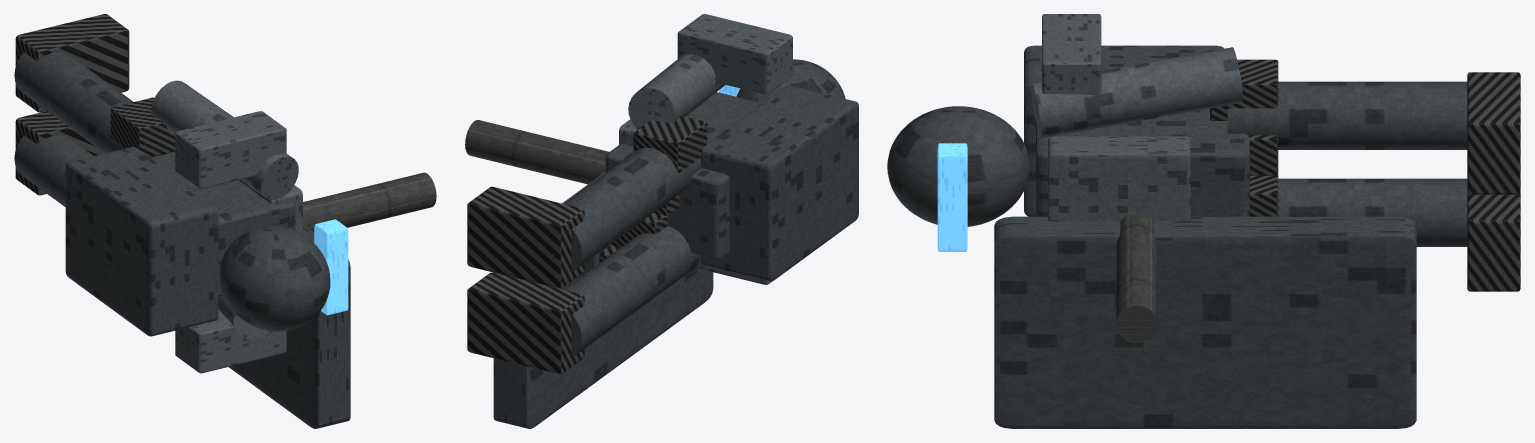
Rendered from s-u10-specter-operator-lod0.glb.
The picture shows the model from 3 angles, left to right: view 1: azimuth 30°, elevation 25°; view 2: azimuth 150°, elevation 25°; view 3: azimuth 270°, elevation 25°; orthographic projection. The views are drawn at different scales.
Parts seen in each view (by area): view 1: soldier_0_backpack, soldier_0_helmet, ballistic_shield, soldier_0_leg_1, soldier_0_shoulder_1, soldier_0_boot_1, soldier_0_rifle, soldier_0_arm_1, soldier_0_torso, soldier_0_shoulder_-1, soldier_0_leg_-1, soldier_0_pouch_3 (+4 smaller); view 2: soldier_0_backpack, ballistic_shield, soldier_0_boot_1, soldier_0_boot_-1, soldier_0_leg_-1, soldier_0_leg_1, soldier_0_torso, soldier_0_shoulder_1, soldier_0_rifle, soldier_0_arm_1, soldier_0_pouch_3, soldier_0_helmet (+2 smaller); view 3: ballistic_shield, soldier_0_leg_1, soldier_0_chest, soldier_0_helmet, soldier_0_arm_1, soldier_0_leg_-1, soldier_0_torso, soldier_0_boot_1, soldier_0_boot_-1, soldier_0_rifle, soldier_0_shoulder_1, soldier_0_backpack (+4 smaller).
Boxes of the visible parts, x1=… form: soldier_0_backpack: x1=65, y1=146, x2=218, y2=336; soldier_0_helmet: x1=219, y1=225, x2=330, y2=331; ballistic_shield: x1=229, y1=224, x2=350, y2=428; soldier_0_leg_1: x1=14, y1=52, x2=175, y2=157; soldier_0_shoulder_1: x1=175, y1=111, x2=286, y2=188; soldier_0_boot_1: x1=15, y1=14, x2=129, y2=112; soldier_0_rifle: x1=303, y1=172, x2=436, y2=232; soldier_0_arm_1: x1=151, y1=80, x2=298, y2=199; soldier_0_torso: x1=151, y1=152, x2=295, y2=296; soldier_0_shoulder_-1: x1=175, y1=310, x2=286, y2=373; soldier_0_leg_-1: x1=14, y1=135, x2=93, y2=206; soldier_0_pouch_3: x1=110, y1=97, x2=175, y2=157; soldier_0_backpack: x1=701, y1=85, x2=858, y2=281; ballistic_shield: x1=493, y1=171, x2=713, y2=428; soldier_0_boot_1: x1=467, y1=186, x2=584, y2=288; soldier_0_boot_-1: x1=467, y1=272, x2=584, y2=373; soldier_0_leg_-1: x1=564, y1=226, x2=700, y2=357; soldier_0_leg_1: x1=564, y1=147, x2=701, y2=271; soldier_0_torso: x1=605, y1=92, x2=762, y2=258; soldier_0_shoulder_1: x1=677, y1=14, x2=792, y2=94; soldier_0_rifle: x1=465, y1=120, x2=608, y2=184; soldier_0_arm_1: x1=628, y1=54, x2=725, y2=129; soldier_0_pouch_3: x1=633, y1=116, x2=707, y2=172; soldier_0_helmet: x1=736, y1=59, x2=845, y2=103; ballistic_shield: x1=994, y1=216, x2=1416, y2=428; soldier_0_leg_1: x1=1227, y1=81, x2=1467, y2=149; soldier_0_chest: x1=1048, y1=136, x2=1190, y2=221; soldier_0_helmet: x1=887, y1=106, x2=1029, y2=226; soldier_0_arm_1: x1=1031, y1=47, x2=1243, y2=138; soldier_0_leg_-1: x1=1278, y1=178, x2=1467, y2=246; soldier_0_torso: x1=1036, y1=108, x2=1249, y2=216; soldier_0_boot_1: x1=1467, y1=72, x2=1520, y2=194; soldier_0_boot_-1: x1=1467, y1=192, x2=1520, y2=291; soldier_0_rifle: x1=1116, y1=213, x2=1157, y2=343; soldier_0_shoulder_1: x1=1042, y1=14, x2=1101, y2=95; soldier_0_backpack: x1=1024, y1=45, x2=1223, y2=216.
Size of what is drawn, in the model's own units: 1.48 by 1.27 by 2.13.
5 materials, 5 textured.
